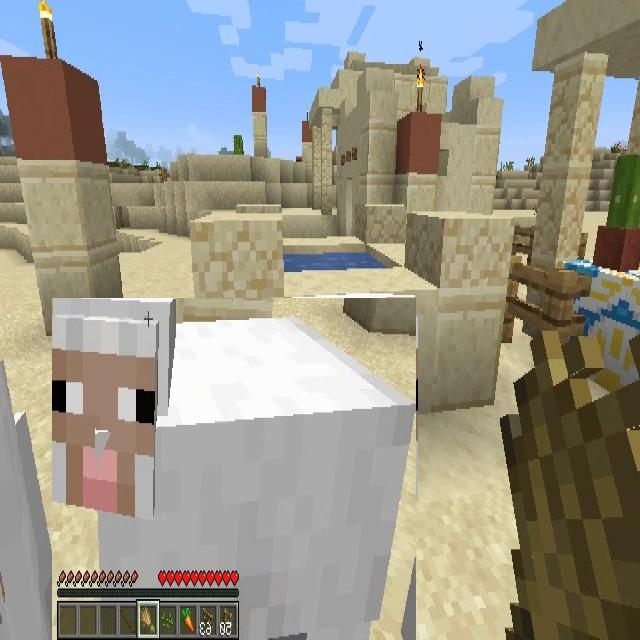sheep: (52, 298, 416, 640)
